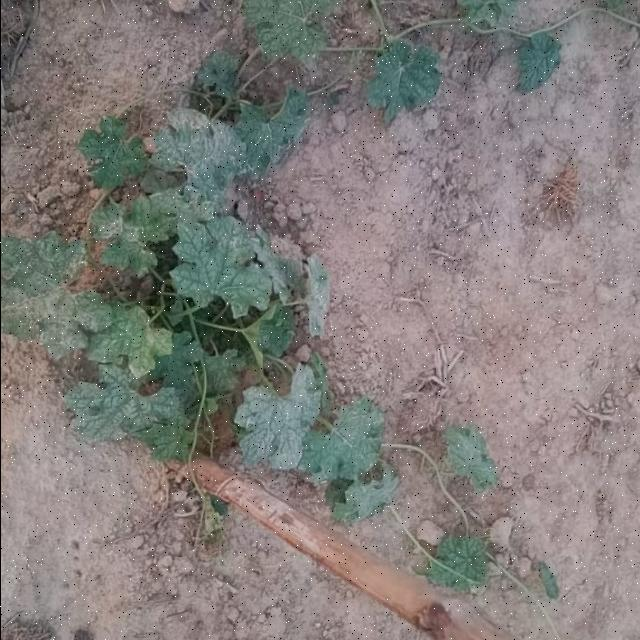plant: (66, 52, 328, 460), (232, 357, 398, 524), (0, 236, 116, 356), (367, 39, 440, 120), (241, 0, 339, 59), (425, 536, 487, 593), (445, 428, 496, 492), (518, 32, 560, 92)
